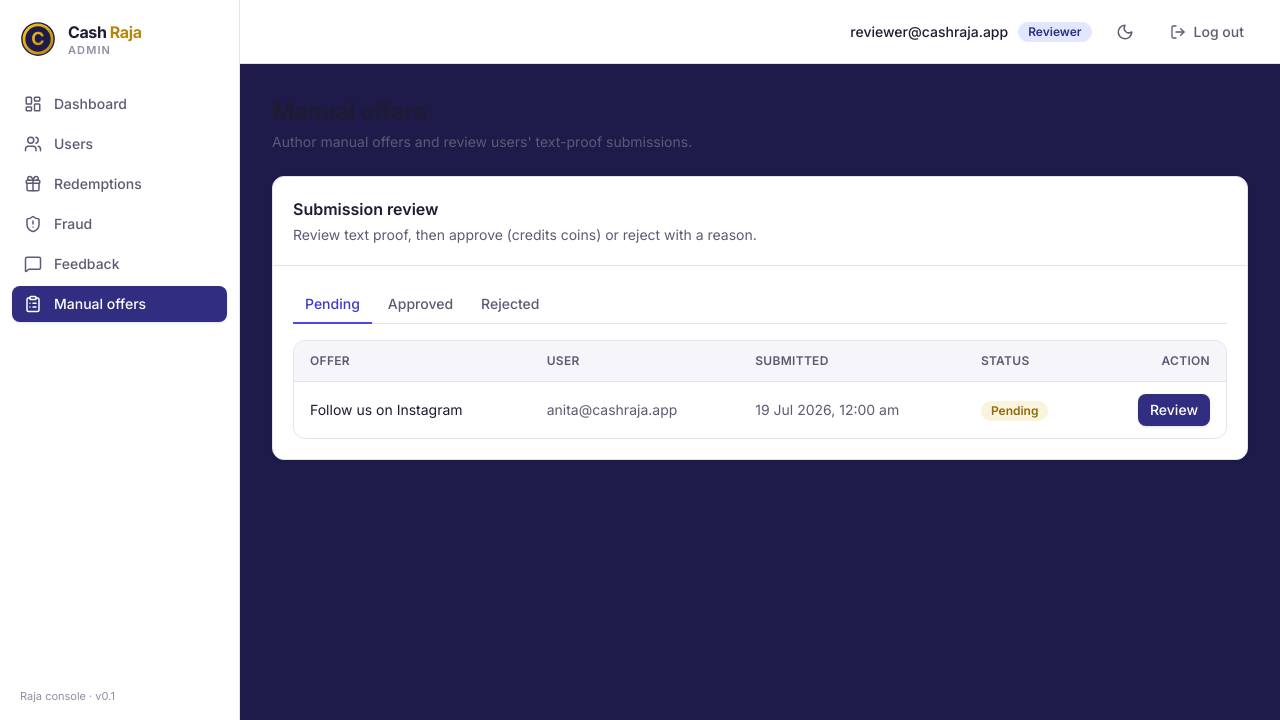
it: Manual offers (admin) › reviewer approves a submission (credits the reward)
The width and height of the screenshot is (1280, 720).
Expected: the text "anita@cashraja.app" is shown, left=531, top=382, right=739, bottom=438
Click the button "Review" at (1174, 410), box left=1138, top=394, right=1210, bottom=426
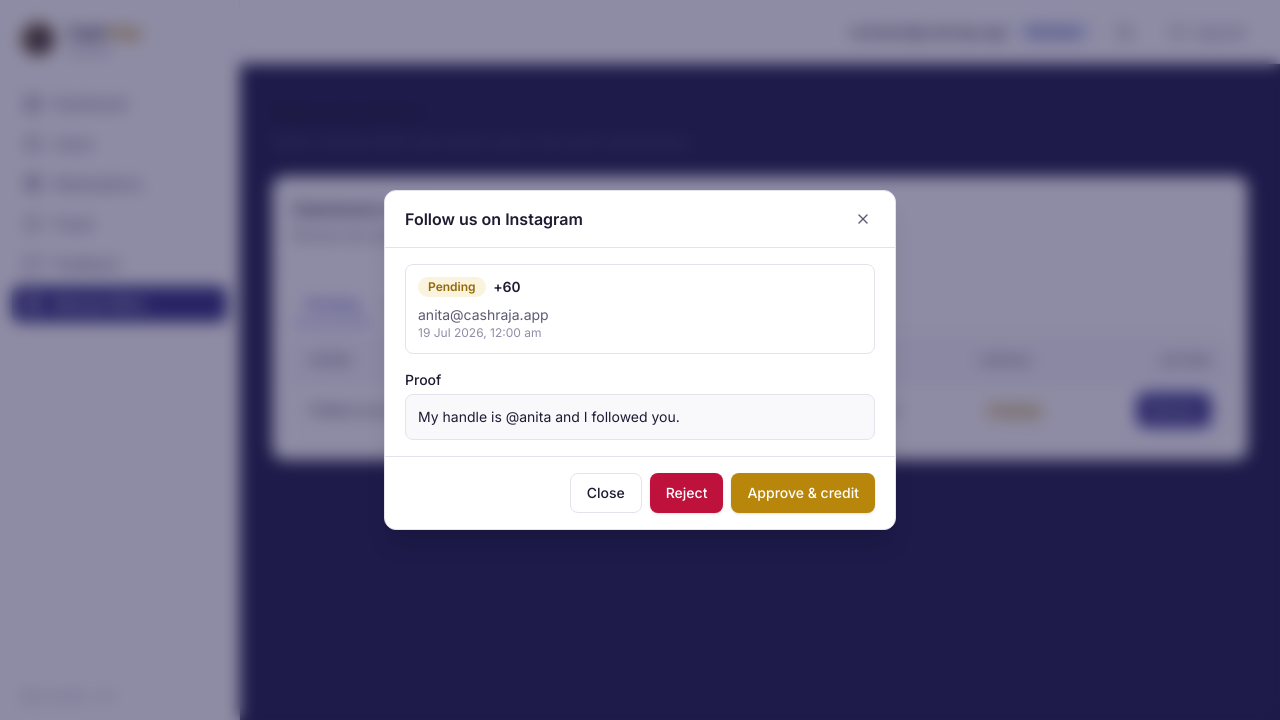
Expected: the text "My handle is @anita and I followed you." is shown, left=405, top=394, right=875, bottom=440
Click the button "Approve & credit" at (803, 493), box left=731, top=473, right=875, bottom=513
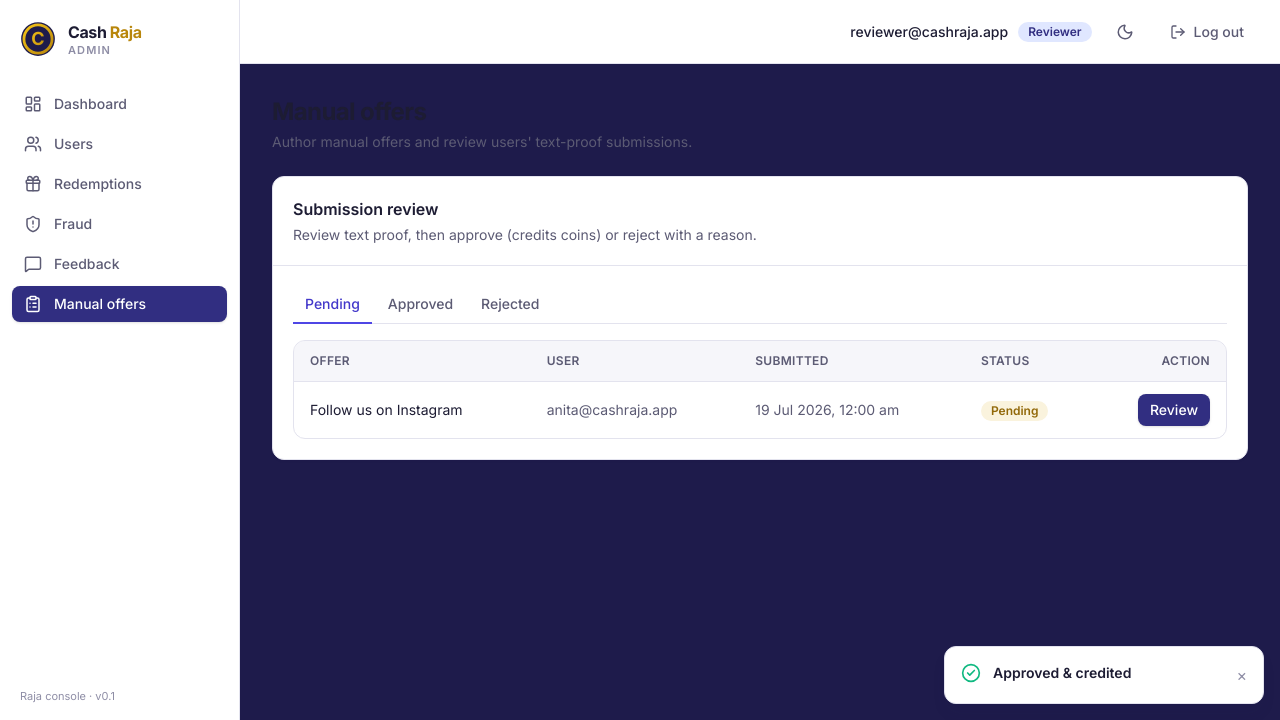
Expected: the text "Approved & credited" is shown, left=993, top=664, right=1131, bottom=681
